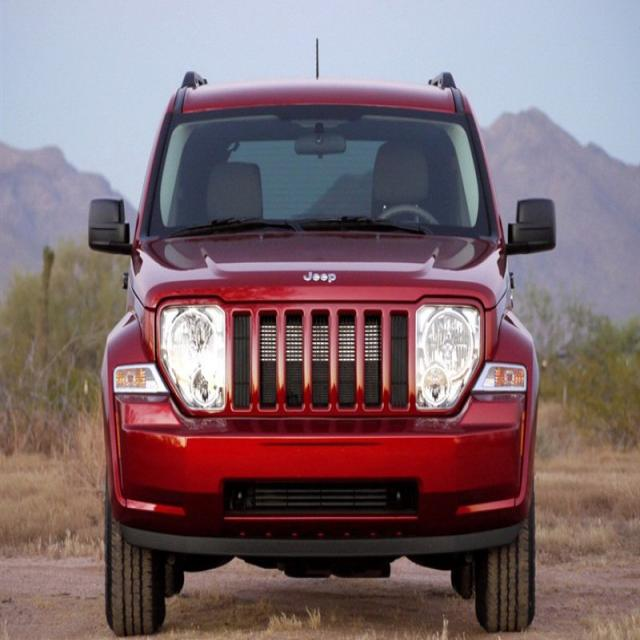front_bumper: (108, 384, 536, 555)
front_glass: (156, 108, 483, 245)
front_left_side_light: (410, 297, 484, 419)
front_left_side_mirror: (507, 193, 559, 257)
front_right_side_light: (154, 294, 232, 416)
front_right_side_mirror: (87, 192, 132, 259)
wheel: (102, 529, 162, 638), (478, 524, 538, 628)
